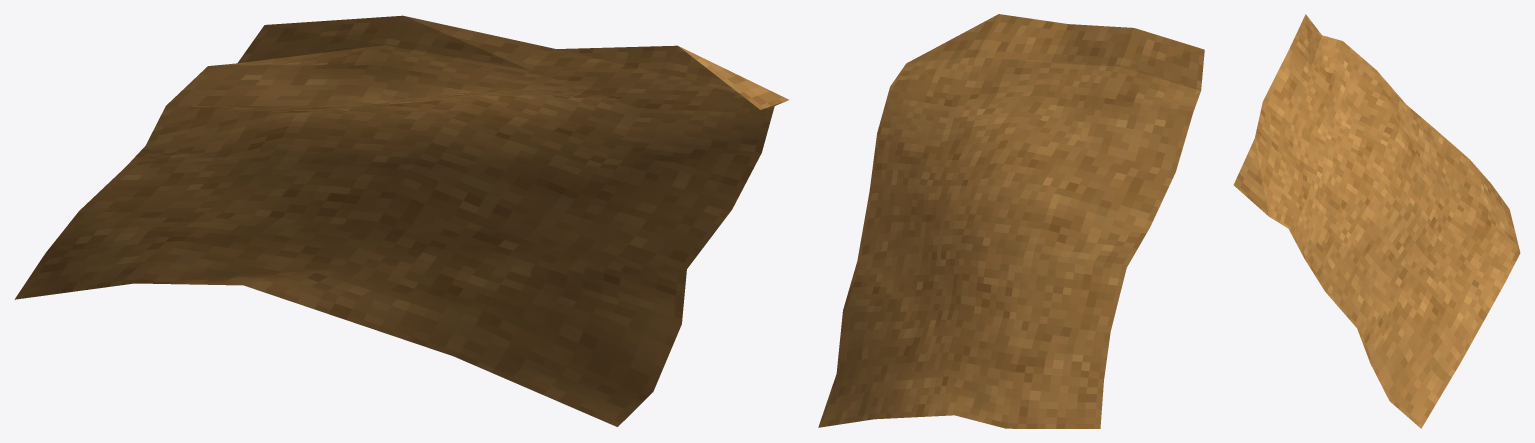
The model's file is paper-animated.glb.
3 views of the same model, side by side, from view 1: azimuth 30°, elevation 25°; view 2: azimuth 150°, elevation 25°; view 3: azimuth 270°, elevation 25° (orthographic). The views are drawn at different scales.
Visible parts, largest first — view 1: papers_geo; view 2: papers_geo; view 3: papers_geo.
Boxes of the visible parts, box(x1,y1,x2,y2) form: papers_geo: box(14, 15, 788, 426); papers_geo: box(818, 14, 1204, 428); papers_geo: box(1233, 14, 1520, 428).
Bounding box in the file's own units: 0.212 × 0.2245 × 0.1942.
Materials: 1 (1 with a texture image).
